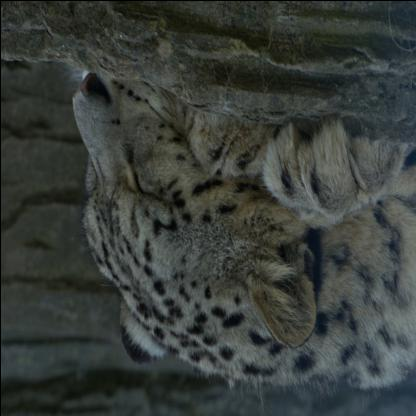leopard: (62, 65, 318, 383)
